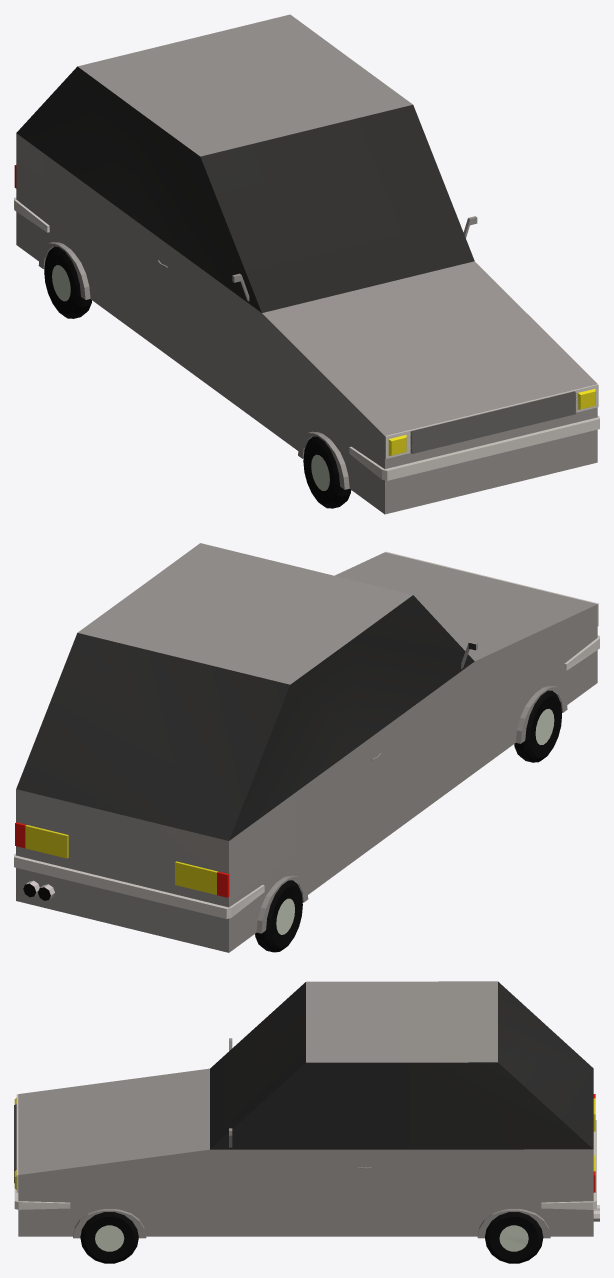
Rendered from carro_civil_hatch.fbx.
3 views of the same model, one above another, from view 1: azimuth 30°, elevation 25°; view 2: azimuth 150°, elevation 25°; view 3: azimuth 270°, elevation 25° (orthographic). The views are drawn at different scales.
Visible parts, largest first — view 1: carro_civil_hatch; view 2: carro_civil_hatch; view 3: carro_civil_hatch.
Boxes of the visible parts, x1,y1,x2,y2 form: carro_civil_hatch: [14, 14, 599, 514]; carro_civil_hatch: [14, 543, 599, 952]; carro_civil_hatch: [14, 981, 599, 1263].
Bounding box in the file's own units: 144 × 145 × 386.
